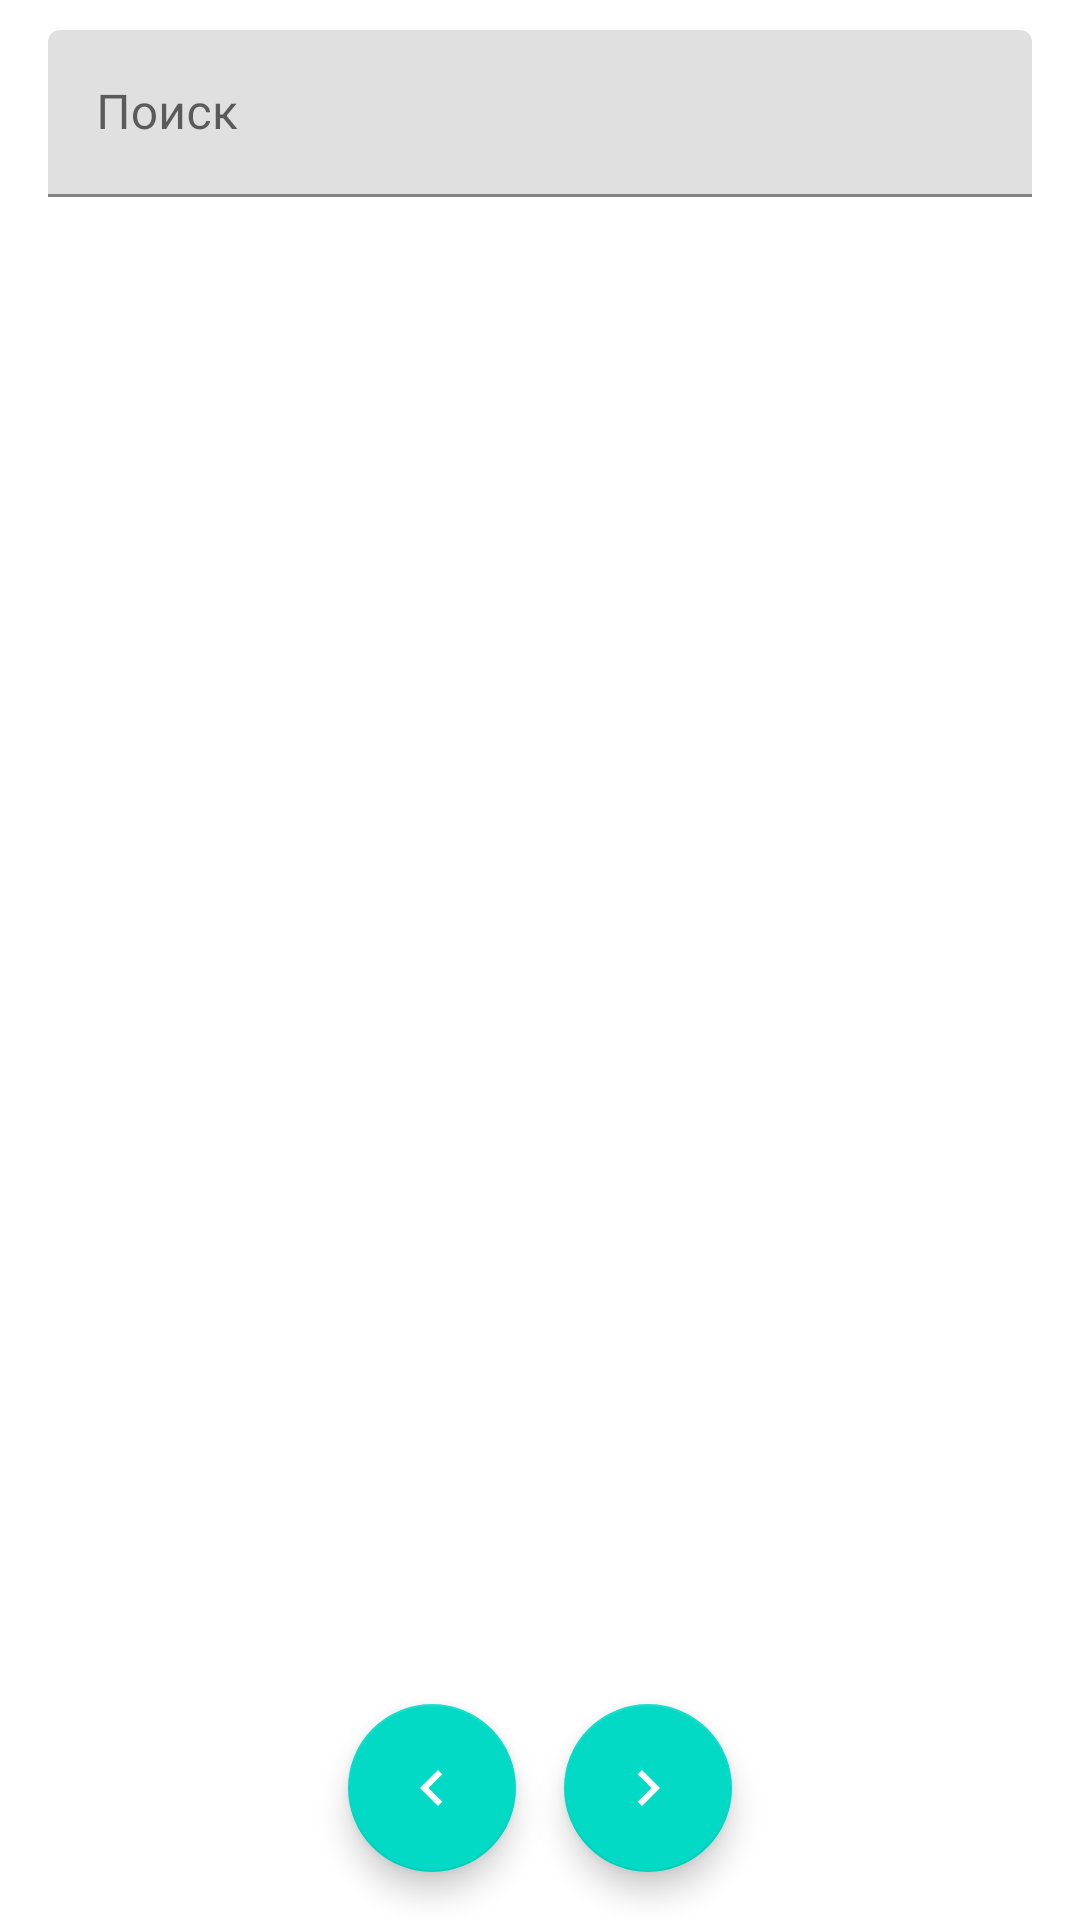

Named icons in this screenshot (1080px×1920px) and their bounding boxes, {"left": x1, "top": y1, "right": x2, "bottom": y2}:
navigate before: {"left": 348, "top": 1704, "right": 516, "bottom": 1872}
navigate next: {"left": 564, "top": 1704, "right": 732, "bottom": 1872}
